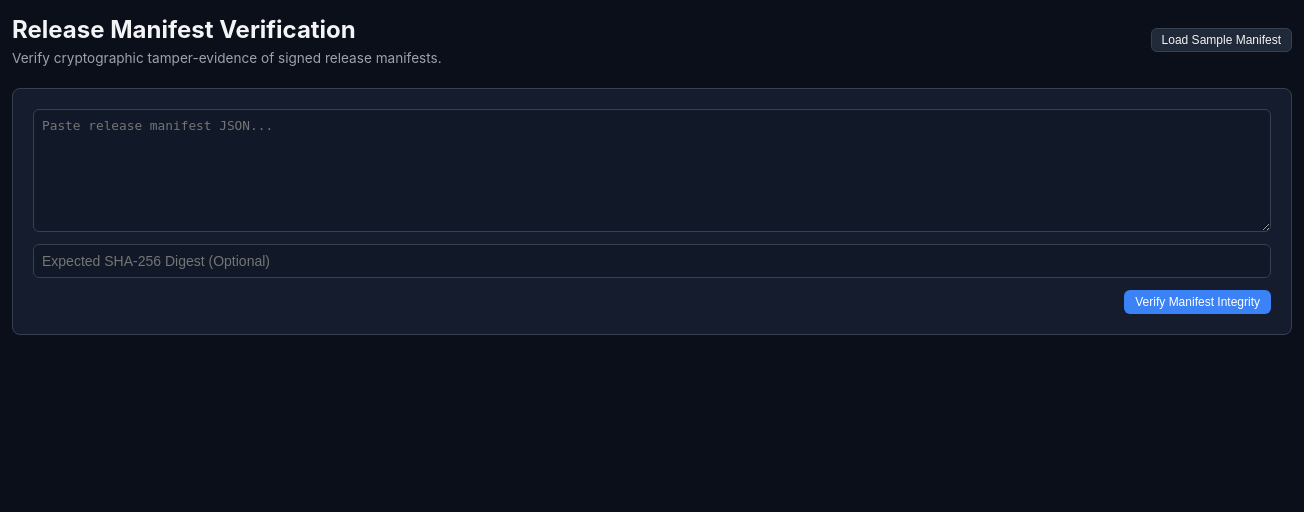
ManifestViewer component › loads sample manifest and verifies tamper-evident digest
What coordinates should you click on to do the following:
click the button "Load Sample Manifest"
I would click on:
 (1221, 40)
Its box is [1151,28,1292,52].
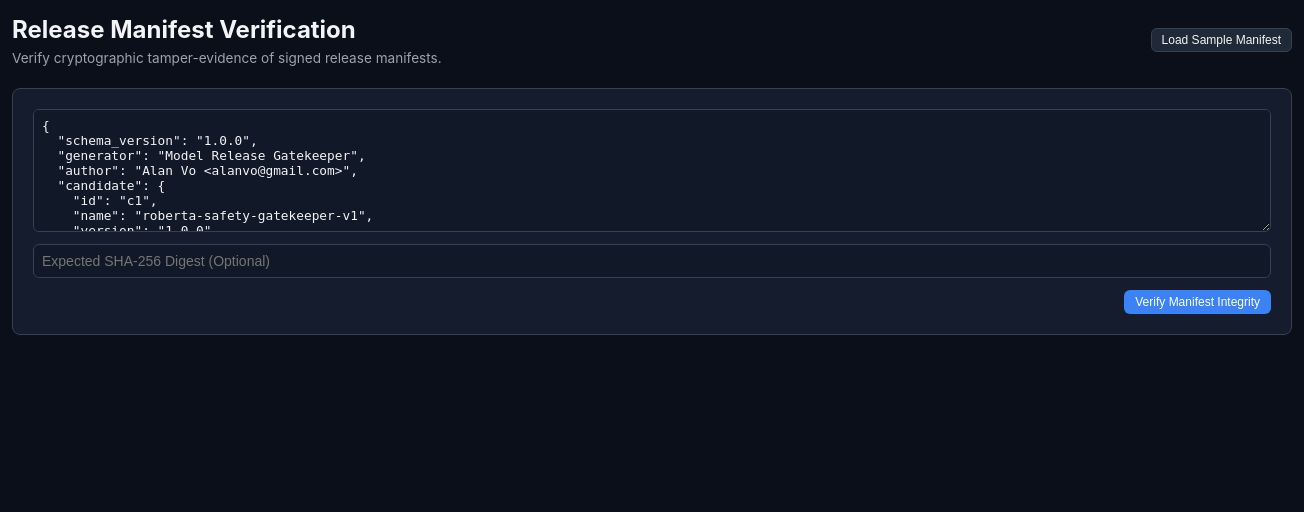
What coordinates should you click on to do the following:
click the button "Verify Manifest Integrity"
I would click on:
 (1198, 302)
Its box is [1124,290,1271,314].
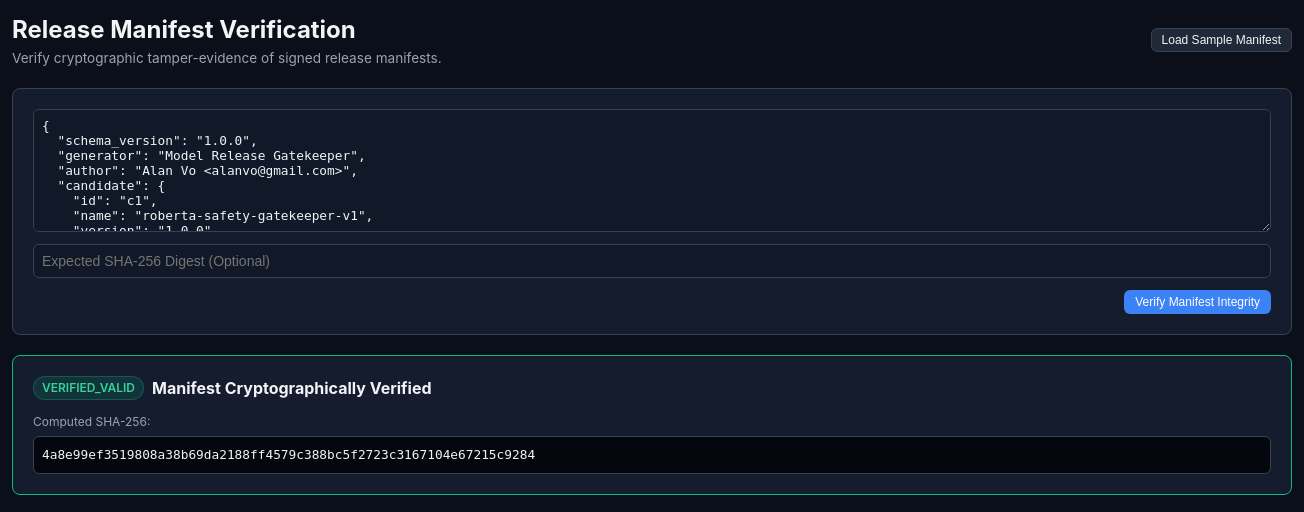
Result: the text "VERIFIED_VALID" is shown at [33,376,144,400]
Result: the text "Manifest Cryptographically Verified" is shown at [152,376,432,400]
